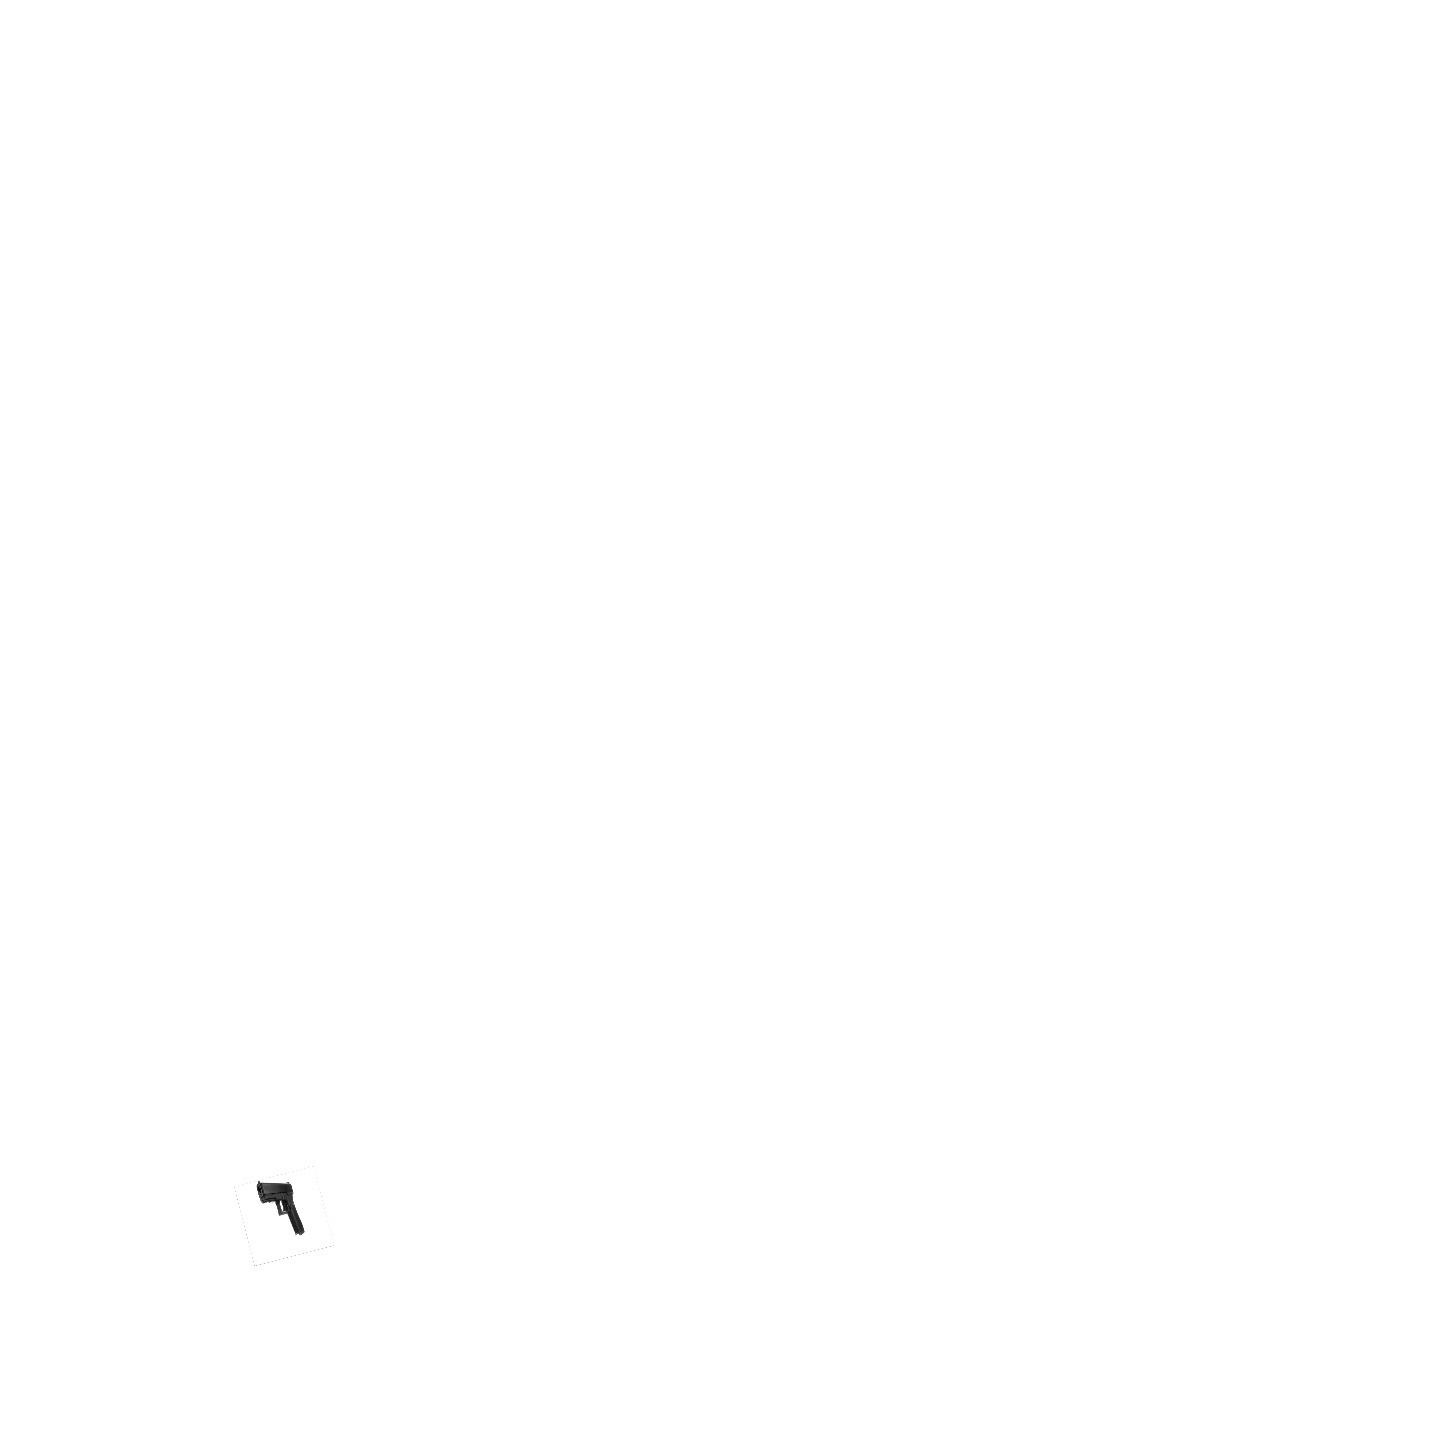gun: (255, 1180, 304, 1235)
